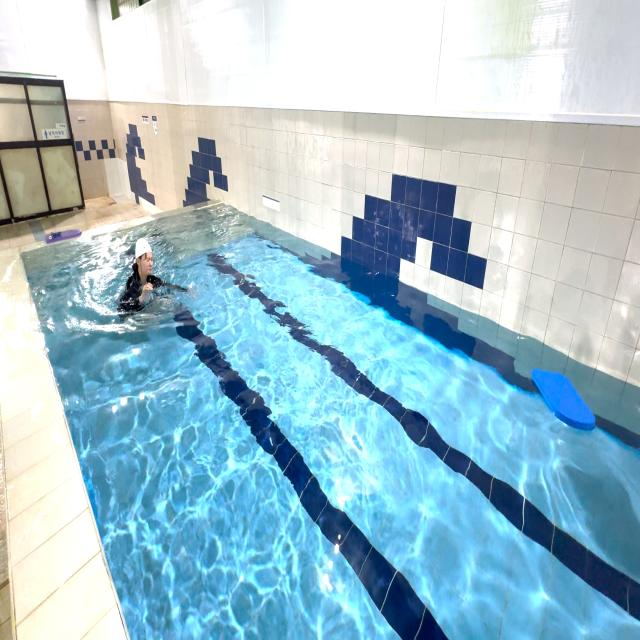Drowning: (111, 228, 200, 343)
